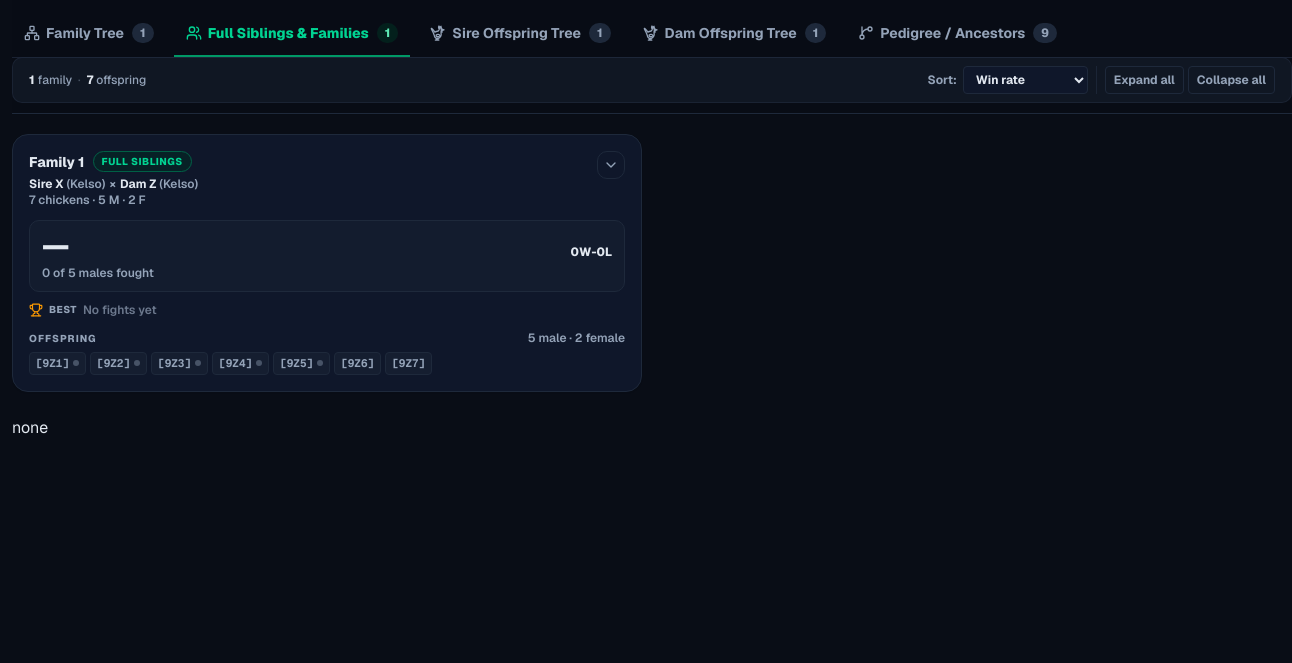
Test: LineageDirectory redesigned top section › renders every male and female offspring in the expanded member table
Expected: the text "7 chickens · 5 M · 2 F" is shown, [29,192,146,208]
What coordinates should you click on to do the following:
click the button named "Expand family 1"
I would click on:
 (611, 165)
Its box is [597,151,625,179].
(page scrolled)
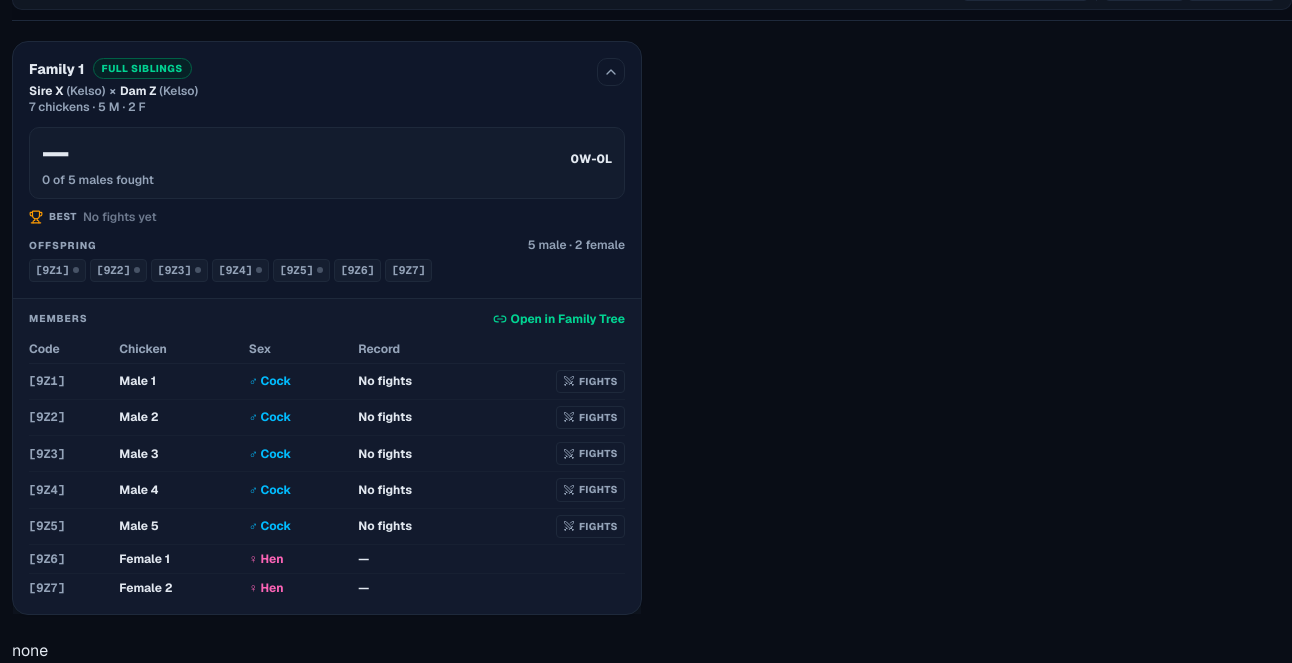
Now the button "Male 1" is shown, box [119,373,156,389]
Now the button "Male 2" is shown, box [119,410,159,426]
Now the button "Male 3" is shown, box [119,446,159,462]
